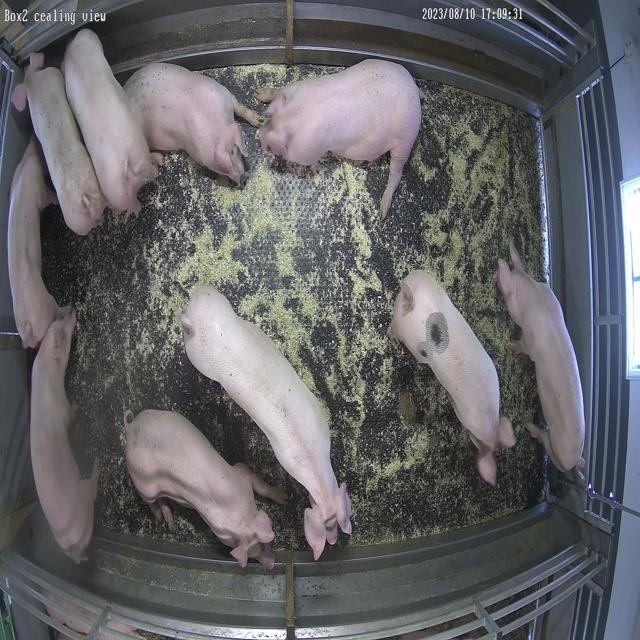Dirt: (399, 391, 418, 428)
Pig: (181, 288, 352, 560), (389, 271, 516, 486), (124, 410, 287, 570), (260, 59, 422, 218), (499, 245, 586, 472), (124, 62, 263, 186), (30, 307, 97, 564), (11, 52, 105, 234), (63, 28, 153, 212), (7, 139, 59, 348)
